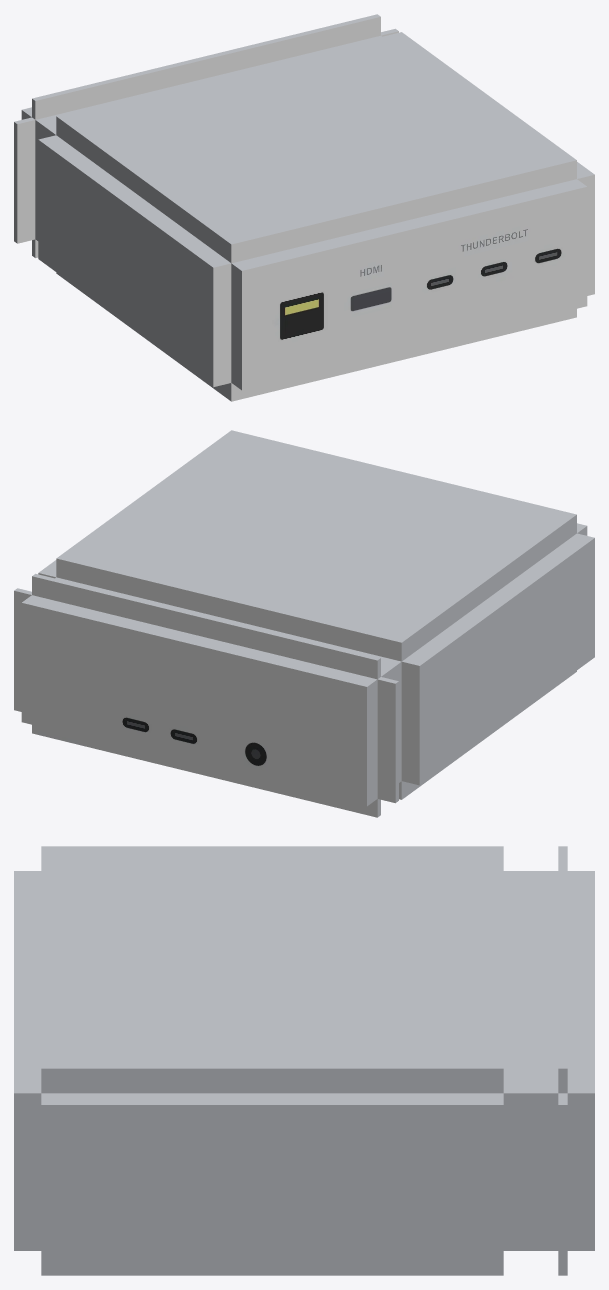
The model's file is apple-mac-mini.glb.
The picture shows the model from 3 angles, top to bottom: view 1: azimuth 30°, elevation 25°; view 2: azimuth 150°, elevation 25°; view 3: azimuth 270°, elevation 25°; orthographic projection. The views are drawn at different scales.
Visible parts, largest first — view 1: apple-mac-mini-body; view 2: apple-mac-mini-body; view 3: apple-mac-mini-body.
Boxes of the visible parts, box(x1,y1,x2,y2) form: apple-mac-mini-body: box(14, 14, 594, 401); apple-mac-mini-body: box(14, 430, 594, 817); apple-mac-mini-body: box(14, 846, 594, 1275).
Size of the model in its own units: 0.127 by 0.05 by 0.127.
1 material, 1 textured.
